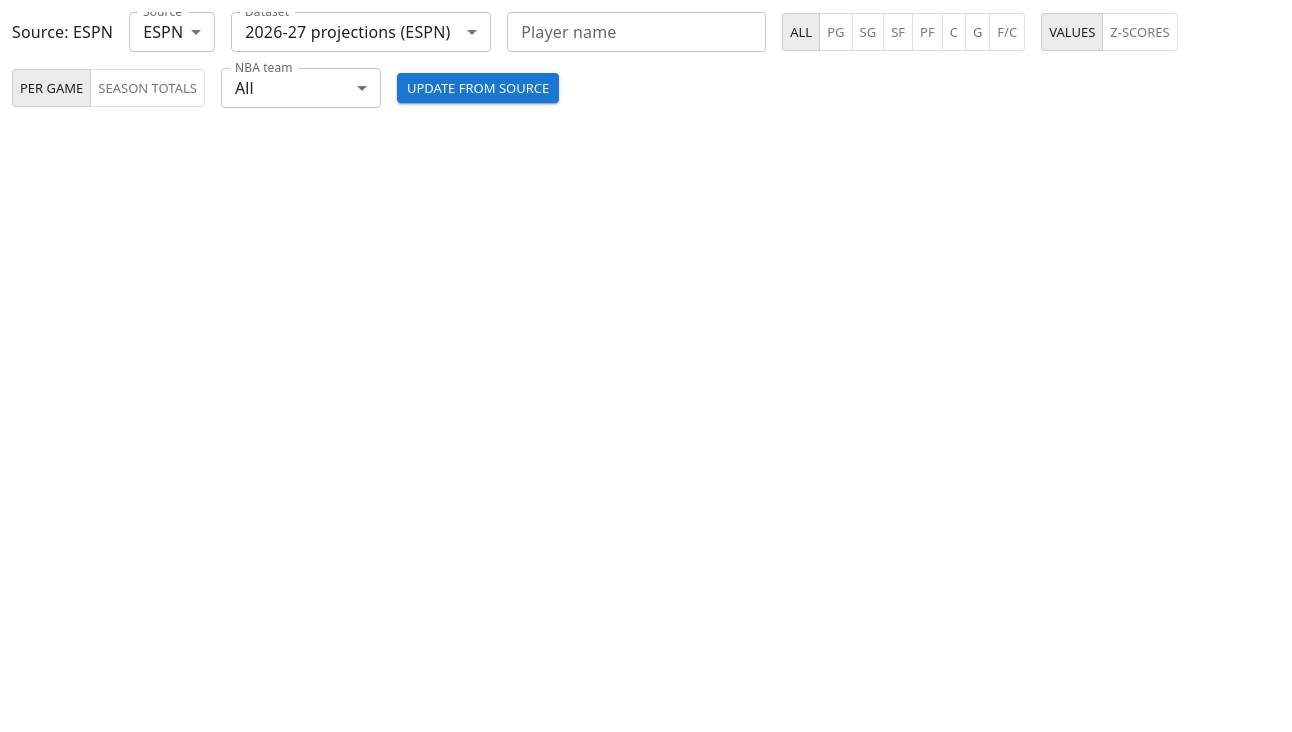
Test: NBA team options include extra abbrevs from loaded rows
Press the mouse on the dropdown named "nba team" at (244, 88), box [235, 76, 254, 98]
(page scrolled)
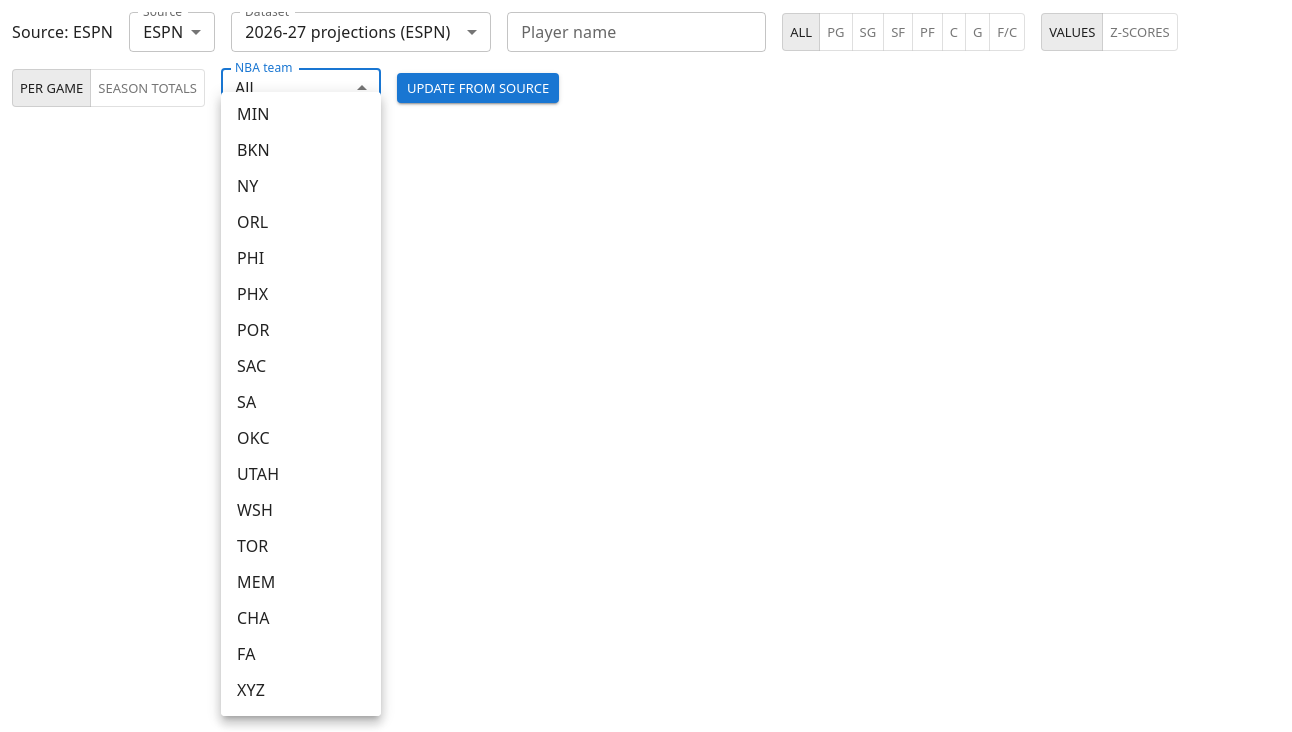
Check: the option "XYZ" is shown, box [237, 679, 265, 701]
